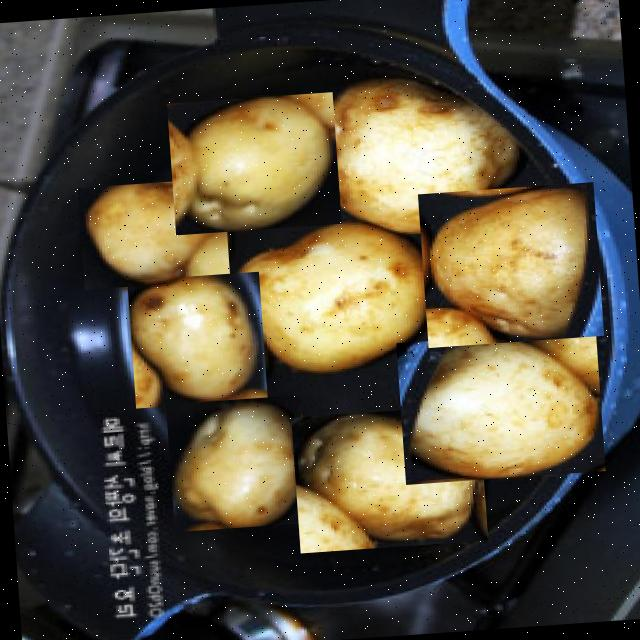Potato: (300, 66, 525, 240), (227, 216, 434, 378), (396, 328, 605, 483), (418, 180, 604, 347), (290, 403, 488, 552), (166, 90, 342, 234), (165, 394, 310, 530), (126, 270, 268, 407), (77, 176, 230, 288)
